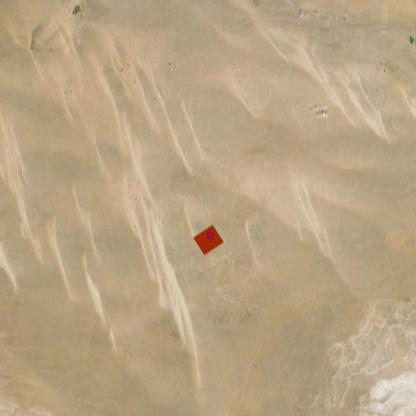0: (204, 229, 215, 242)
rectangle: (193, 222, 224, 258)
